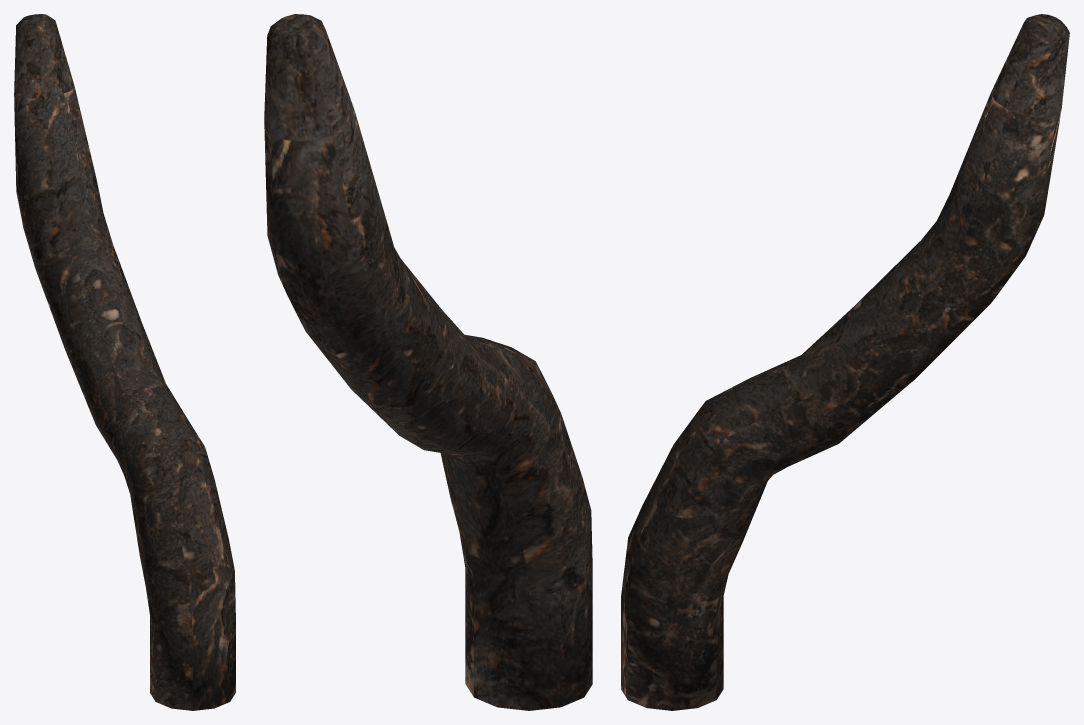
File: tree.obj
3 renders of one model, left to right at view 1: azimuth 30°, elevation 25°; view 2: azimuth 150°, elevation 25°; view 3: azimuth 270°, elevation 25°, orthographic. The views are drawn at different scales.
Parts seen in each view (by area): view 1: Cylinder_Cylinder; view 2: Cylinder_Cylinder; view 3: Cylinder_Cylinder.
Boxes of the visible parts, box(x1,y1,x2,y2) form: Cylinder_Cylinder: box(14, 14, 235, 710); Cylinder_Cylinder: box(264, 14, 592, 710); Cylinder_Cylinder: box(621, 14, 1069, 710).
Bounding box in the file's own units: 68.7 × 470 × 285.
1 material, 1 textured.
